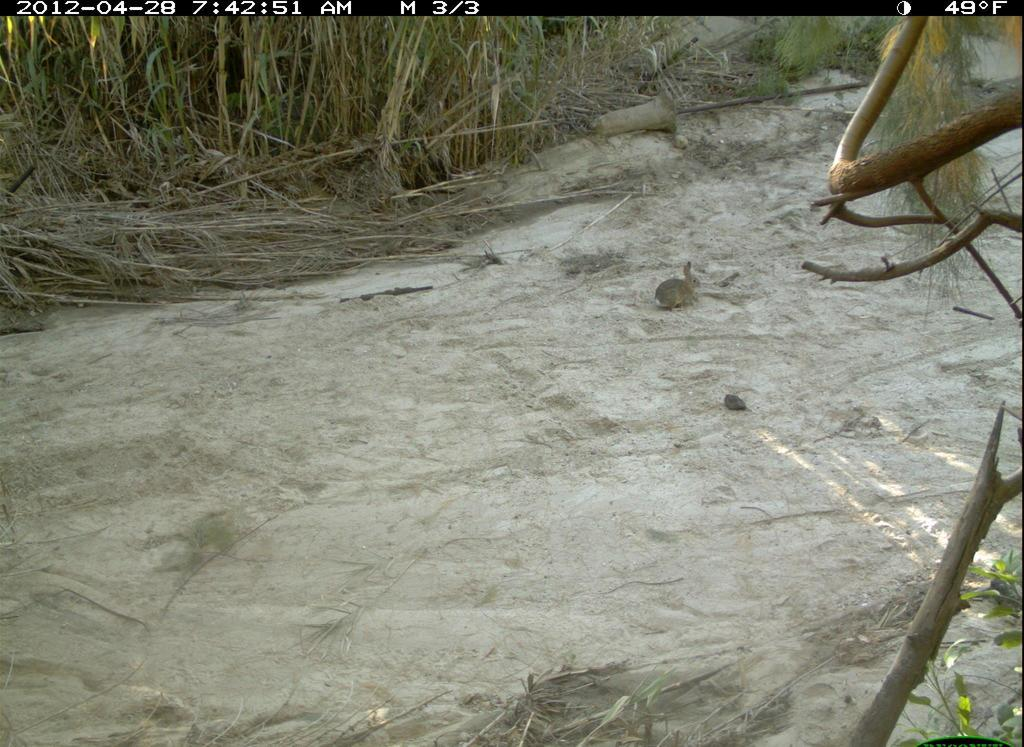rabbit: (652, 260, 713, 322)
